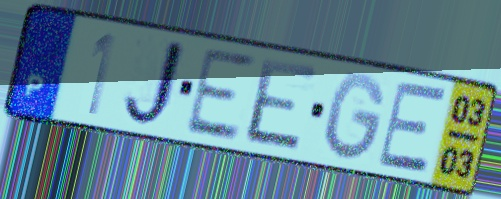1: (86, 31, 118, 118)
E: (242, 55, 321, 156), (180, 44, 258, 144), (375, 80, 449, 177)
G: (322, 69, 389, 165)
J: (119, 35, 190, 132)
